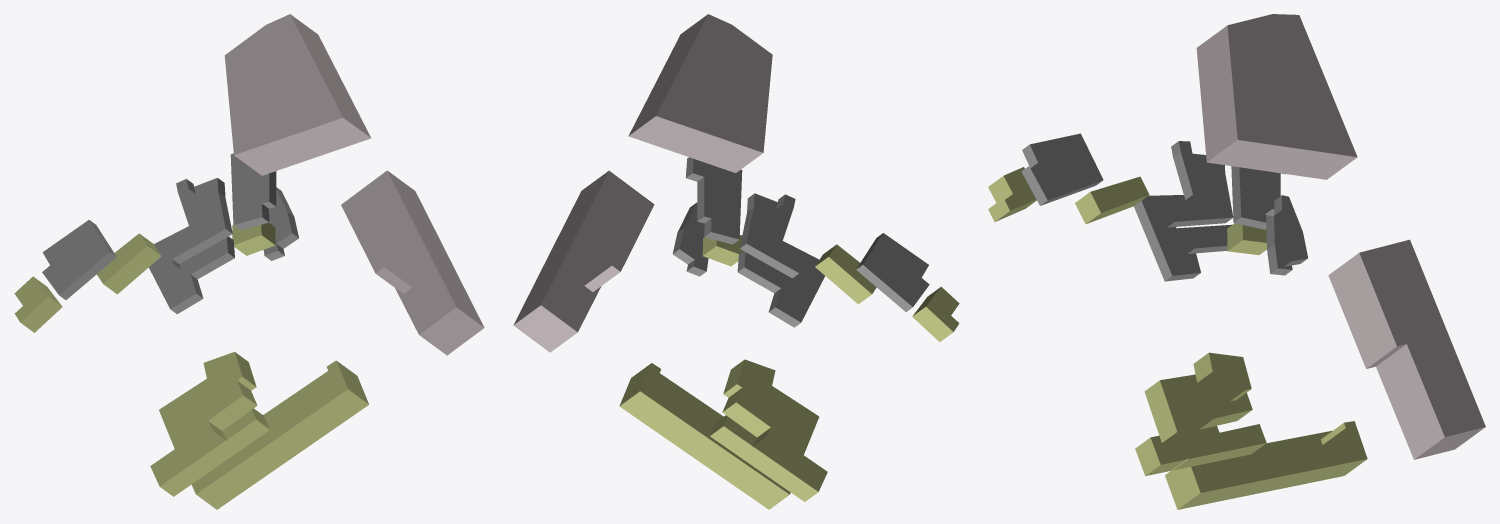
The picture shows the model from 3 angles, left to right: view 1: azimuth 30°, elevation 25°; view 2: azimuth 150°, elevation 25°; view 3: azimuth 330°, elevation 25°; orthographic projection. The views are drawn at different scales.
Parts seen in each view (by area): view 1: 0_1_0_2_1_3_2_0; view 2: 0_1_0_2_1_3_2_0; view 3: 0_1_0_2_1_3_2_0.
Part boxes in pixels (bbox=[...]): 0_1_0_2_1_3_2_0: bbox=[14, 14, 484, 509]; 0_1_0_2_1_3_2_0: bbox=[513, 14, 959, 509]; 0_1_0_2_1_3_2_0: bbox=[988, 14, 1485, 509].
Size of the model in its own units: 108 by 108 by 13.3.
